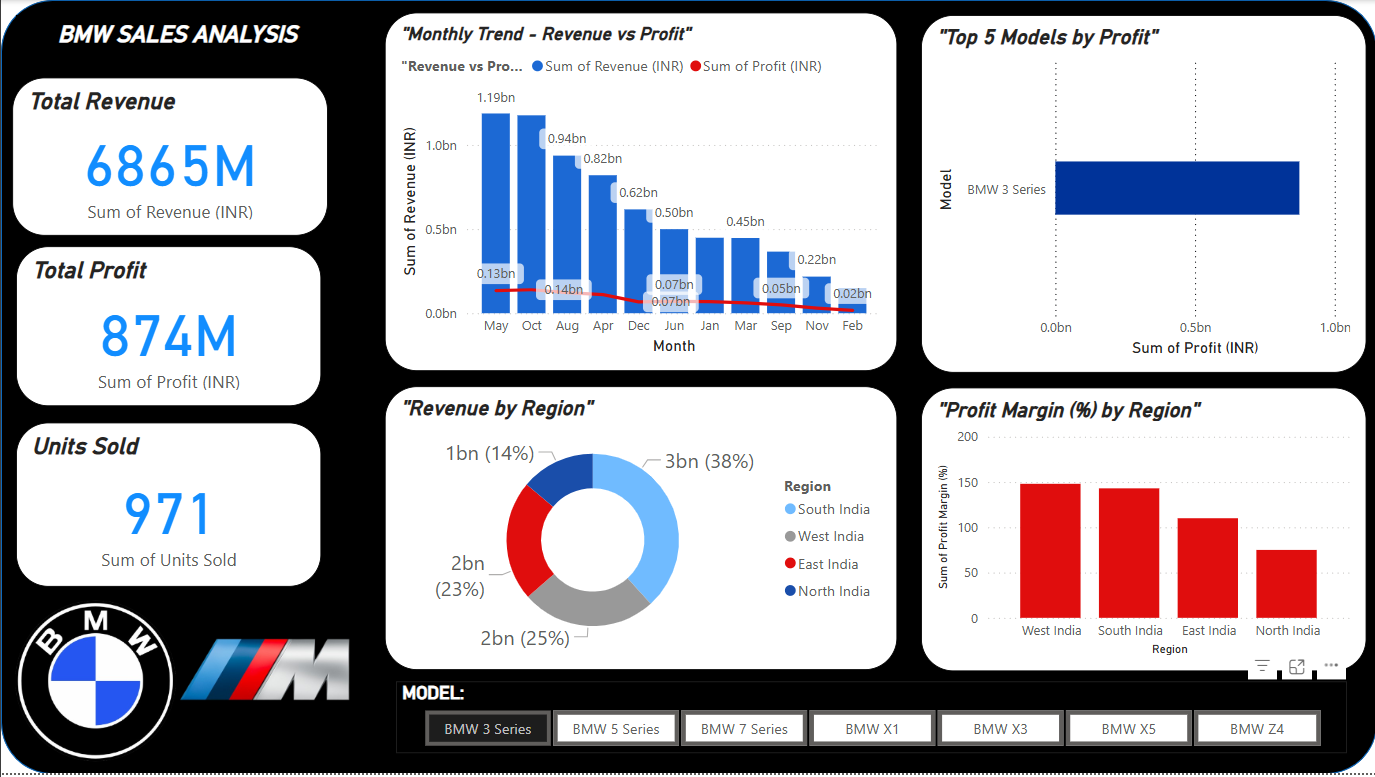

What the dashboard file says about the page in this screenshot:
{"tool":"powerbi","page":{"name":"Page 1","canvas":[1280,720],"ordinal":0},"visuals":[{"type":"shape","box":[0,0,1280.3,720.2],"z":0},{"type":"card","title":"Total Revenue","fields":{"Values":["Sum(Sheet1.Revenue (INR))"]},"box":[10.3,71.9,293.6,146.8],"z":1000},{"type":"card","title":"Total Profit","fields":{"Values":["Sum(Sheet1.Profit (INR))"]},"box":[14.4,228.9,284.4,148.9],"z":2000},{"type":"card","title":"Units Sold","fields":{"Values":["Sum(Sheet1.Units Sold)"]},"box":[14.4,393.2,284.4,153],"z":3000},{"type":"lineClusteredColumnComboChart","title":"\"Monthly Trend - Revenue vs Profit\"","fields":{"Category":["Sheet1.Month"],"Y":["Sum(Sheet1.Revenue (INR))"],"Y2":["Sum(Sheet1.Profit (INR))"]},"box":[356.8,12.1,476.6,333.9],"z":4000},{"type":"donutChart","title":"\"Revenue by Region\"","fields":{"Category":["Sheet1.Region"],"Y":["Sum(Sheet1.Revenue (INR))"]},"box":[356.8,359.4,476.6,263.9],"z":5000},{"type":"clusteredBarChart","title":" \"Top 5 Models by Profit\"","fields":{"Y":["Sum(Sheet1.Profit (INR))"],"Category":["Sheet1.Model"]},"box":[856.2,13.5,414.6,332.5],"z":6000},{"type":"clusteredColumnChart","title":"\"Profit Margin (%) by Region\"","fields":{"Category":["Sheet1.Region"],"Y":["Sum(Sheet1.Profit Margin (%))"]},"box":[856.2,360.8,414.6,263.9],"z":7000},{"type":"image","box":[0,546.6,176.4,173.7],"z":8000},{"type":"image","box":[148.8,525.6,193,194.2],"z":9000},{"type":"slicer","title":"MODEL:","fields":{"Values":["Sheet1.Model"]},"box":[367.5,634.1,884.5,67.3],"z":10000},{"type":"textbox","box":[14,14,305.8,45.3],"z":11000}]}

Visuals, with their boxes in screenshot pixels (x1, y1, x2, y2), scaled from the page's 1280x720 canvas onto the 1375x777 screenshot:
shape: l=0, t=0, r=1374, b=776
"Total Revenue" card: l=11, t=78, r=326, b=236
"Total Profit" card: l=15, t=247, r=321, b=408
"Units Sold" card: l=15, t=424, r=321, b=589
""Monthly Trend - Revenue vs Profit"" lineClusteredColumnComboChart: l=383, t=13, r=895, b=373
""Revenue by Region"" donutChart: l=383, t=388, r=895, b=673
" "Top 5 Models by Profit"" clusteredBarChart: l=920, t=15, r=1365, b=373
""Profit Margin (%) by Region"" clusteredColumnChart: l=920, t=389, r=1365, b=674
image: l=0, t=590, r=189, b=776
image: l=160, t=567, r=367, b=776
"MODEL:" slicer: l=395, t=684, r=1345, b=757
textbox: l=15, t=15, r=344, b=64
